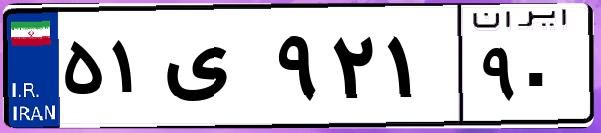0: (525, 38, 570, 115)
1: (385, 28, 445, 110), (110, 28, 158, 98)
2: (330, 28, 385, 110)
5: (57, 26, 110, 100)
9: (270, 28, 330, 110), (475, 38, 525, 113)
ی: (158, 20, 270, 120)
